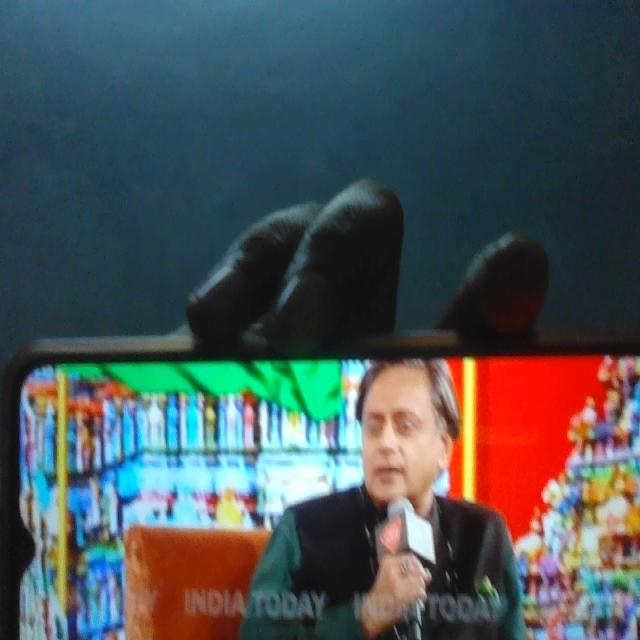fake: (348, 339, 448, 528)
